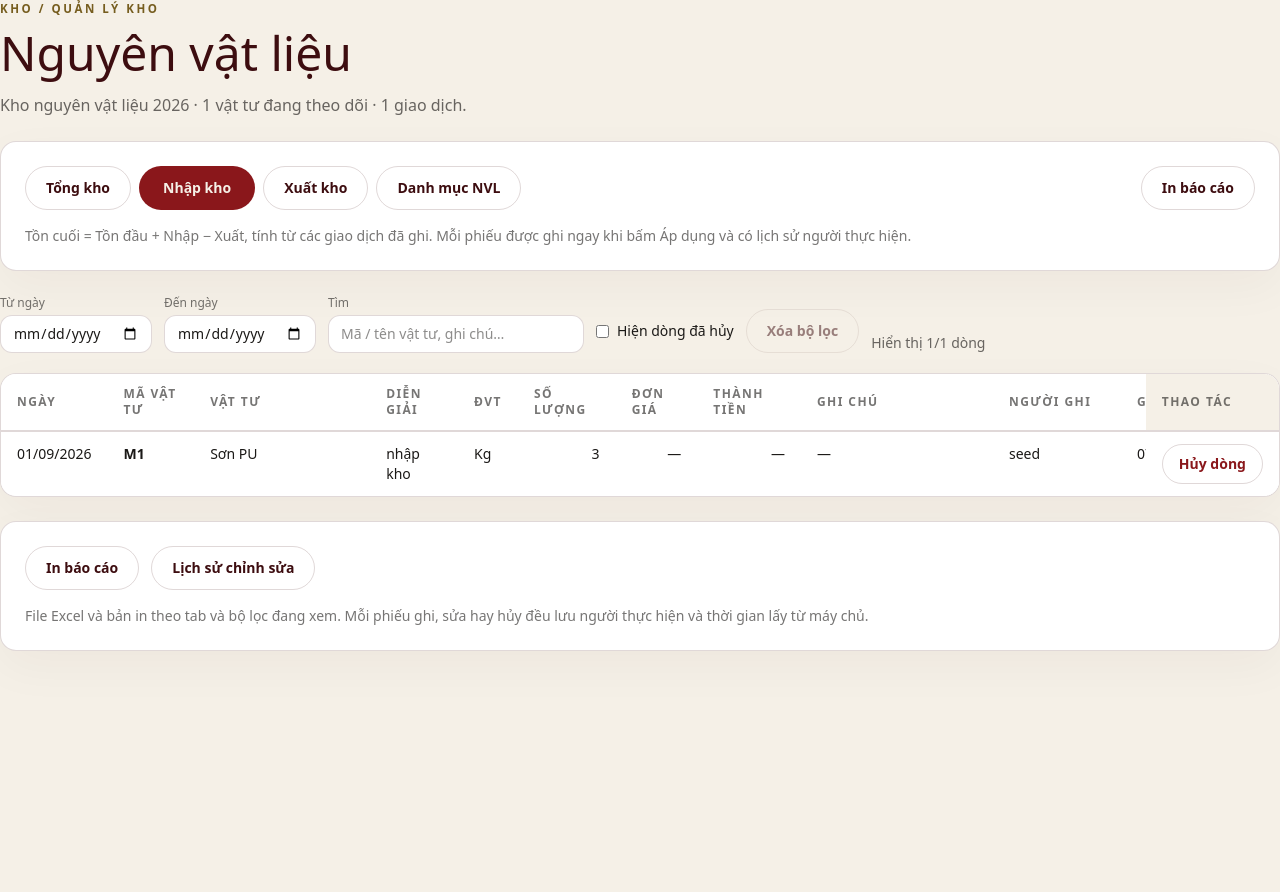
Test: materials workspace › asks for a reason before cancelling a line
Click the button with aria-label "Hủy phiếu M1 ngày 01/09/2026" at (1212, 464), box 1162,444 -> 1263,484
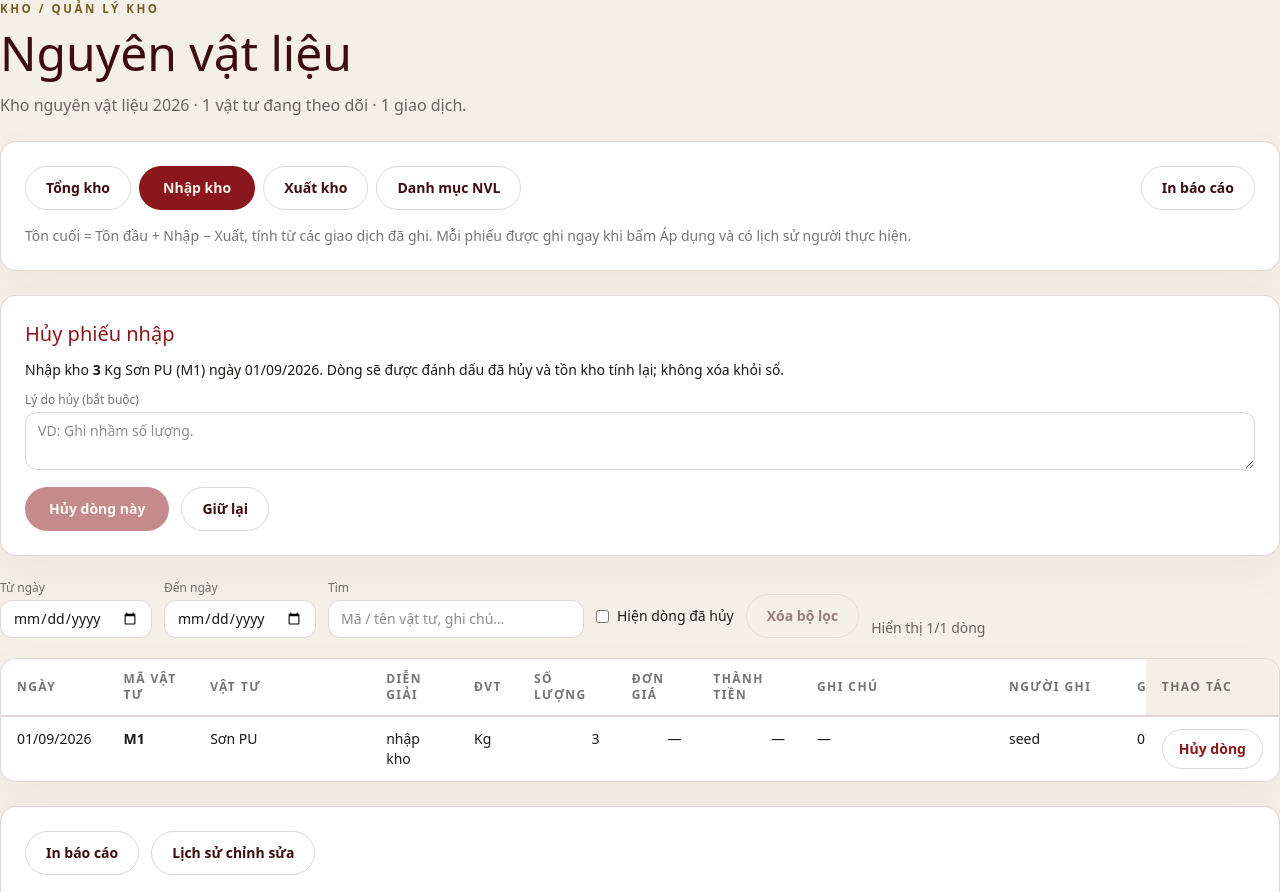
Now the button "Hủy dòng này" is disabled, box 25,487 -> 169,531
Type "ghi nhầm" into the text box labelled "Lý do hủy" at (640, 441), box 25,412 -> 1255,470
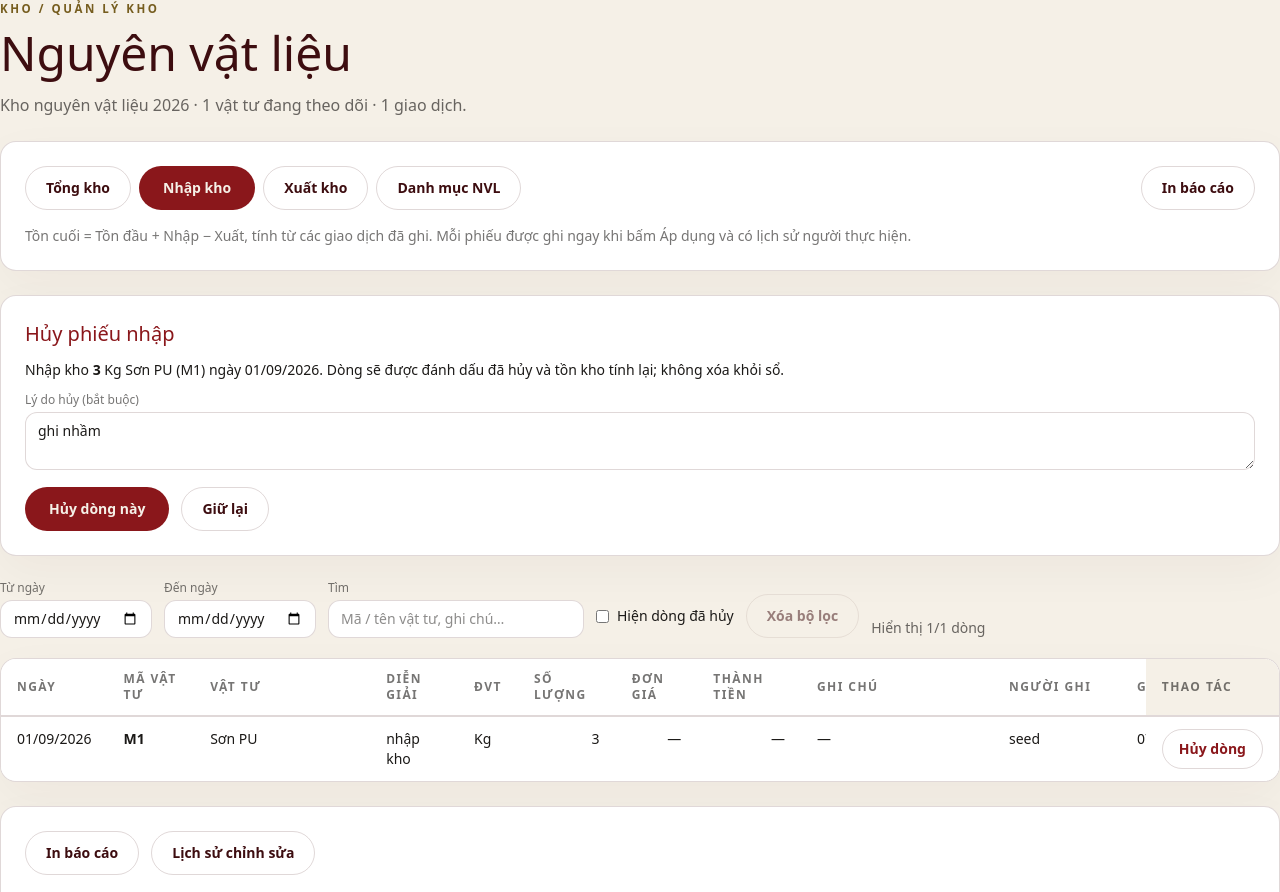
Now the button "Hủy dòng này" is enabled
Click the button "Hủy dòng này" at (97, 509), box 25,487 -> 169,531
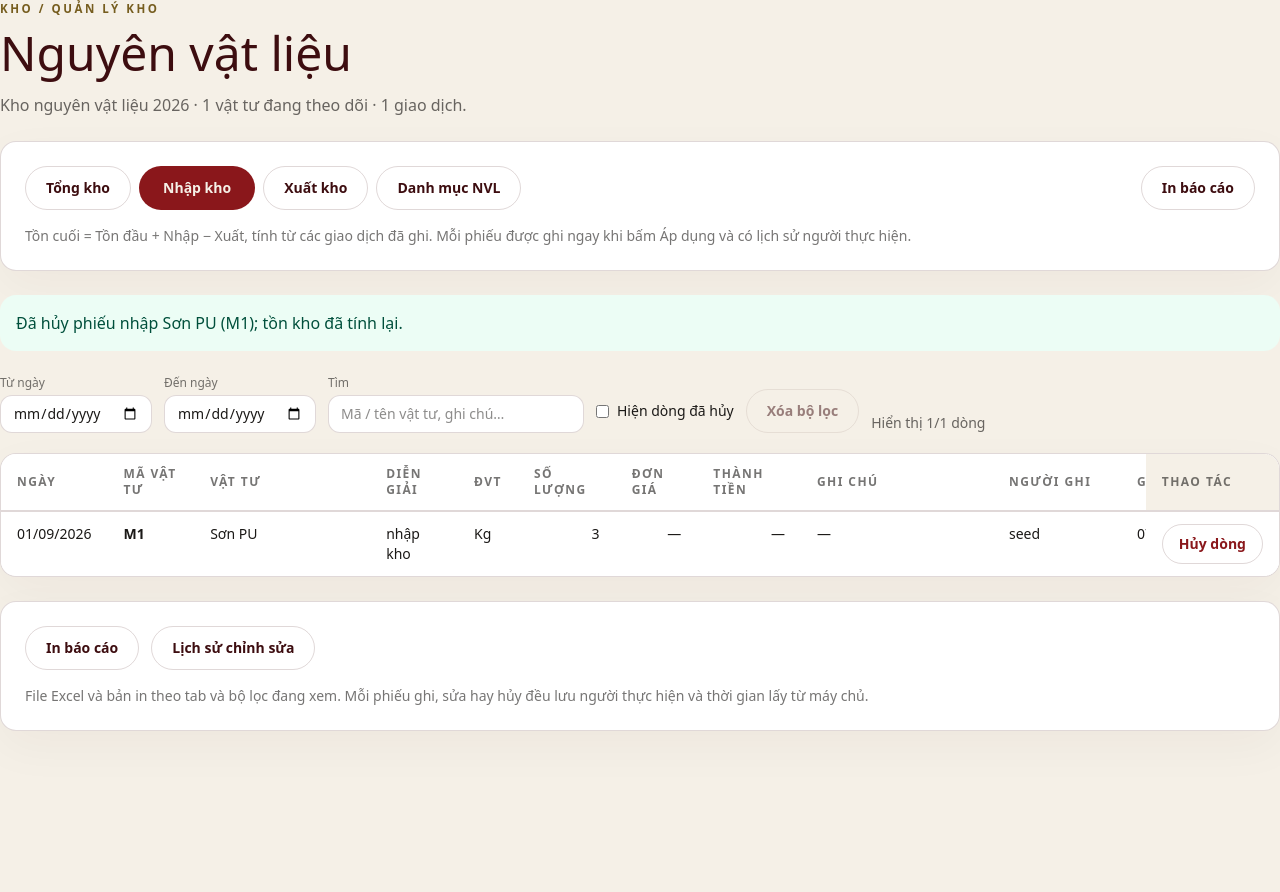
Now the text "Đã hủy phiếu nhập Sơn PU (M1); tồn kho đã tính lại." is shown, box 0,295 -> 1279,351
